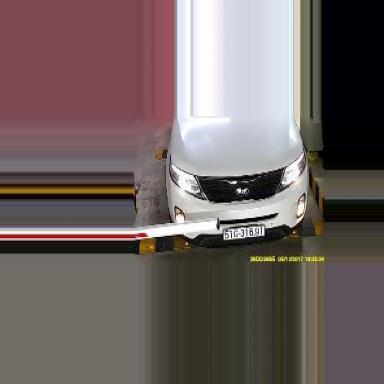License_Plate: (222, 222, 265, 243)
